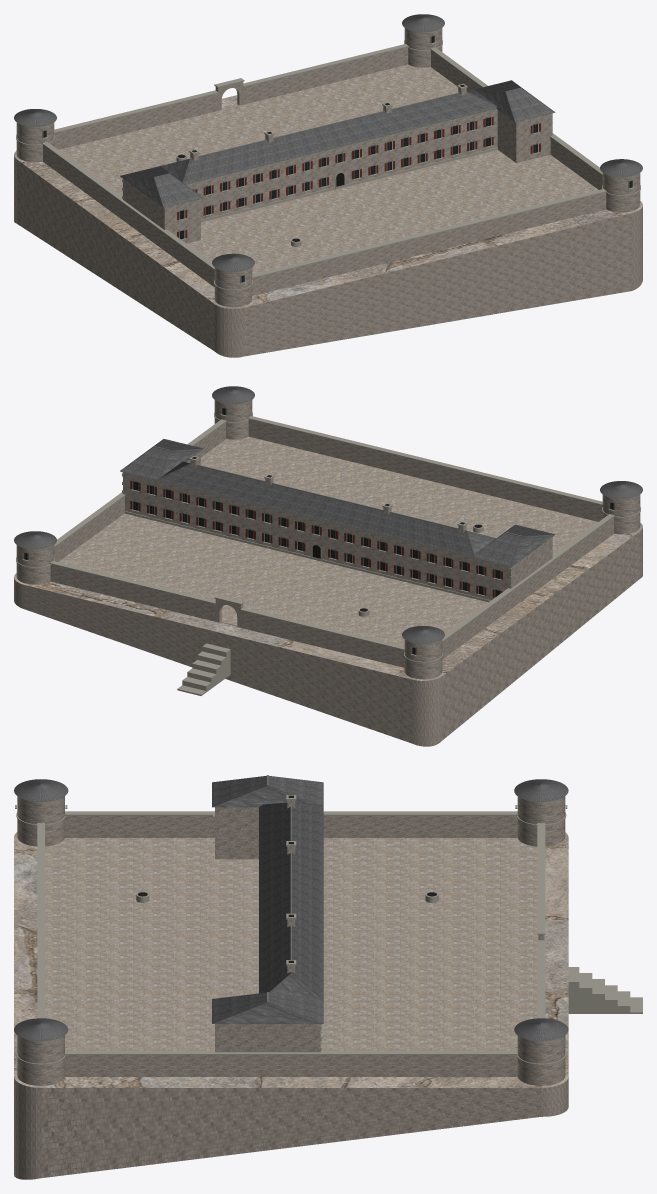
The model's file is MNT_biljarda.obj.
3 views of the same model, one above another, from view 1: azimuth 30°, elevation 25°; view 2: azimuth 150°, elevation 25°; view 3: azimuth 270°, elevation 25° (orthographic). The views are drawn at different scales.
Visible parts, largest first — view 1: MNT_biljarda; view 2: MNT_biljarda; view 3: MNT_biljarda.
Boxes of the visible parts, <box> form: MNT_biljarda: <box>14,14,642,357</box>; MNT_biljarda: <box>14,386,642,746</box>; MNT_biljarda: <box>14,775,642,1179</box>.
Bounding box in the file's own units: 79.36 × 24.85 × 80.48.
1 material, 1 textured.
